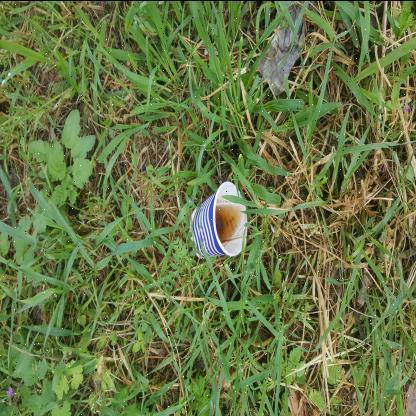cardboard: (193, 180, 246, 256)
